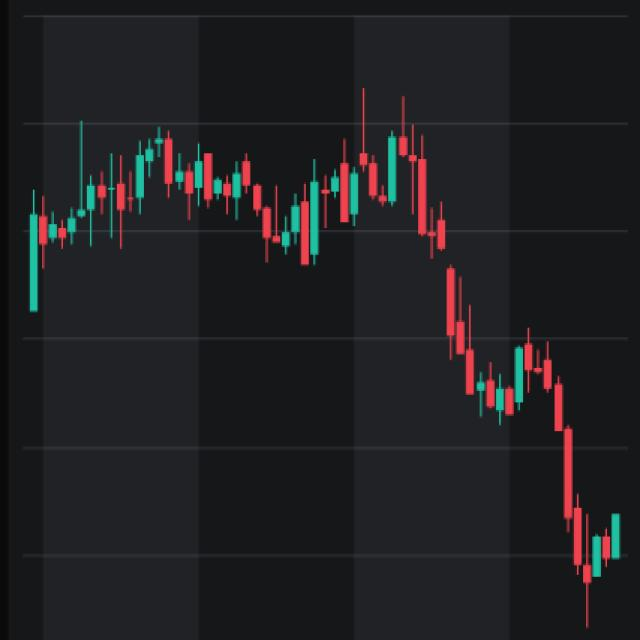Support-breakout: (285, 115, 598, 623)
